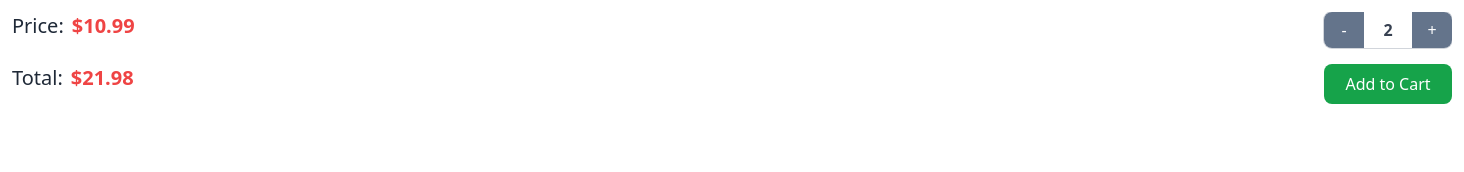
amount state updates correctly when decreased by 1
Click the button "-": click(1344, 30) [1324,12,1364,48]
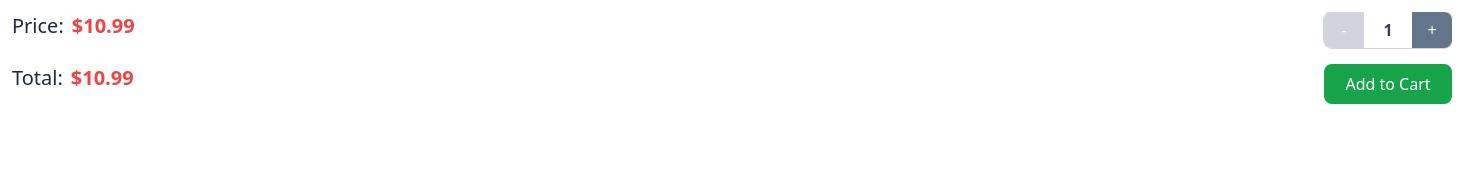
Result: the number field with test id "counter-input" holds "1" at [1364,12,1412,48]
